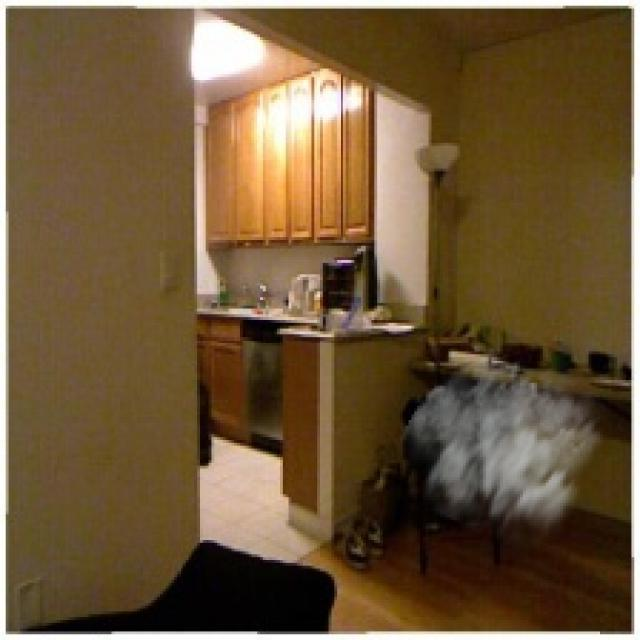Smoke: (394, 346, 612, 563)
